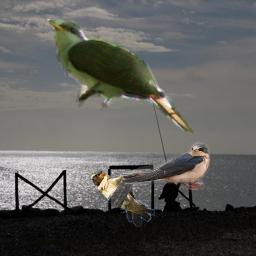Cuckoo: (44, 19, 194, 134)
Swallow: (120, 141, 210, 190), (89, 169, 155, 227)
